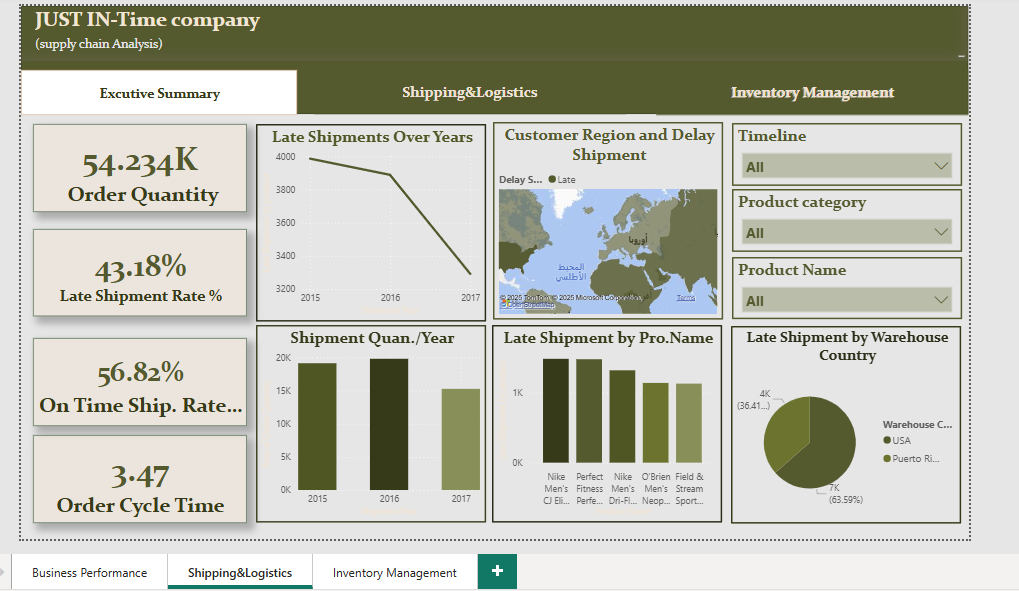

What the dashboard file says about the page in this screenshot:
{"tool":"powerbi","page":{"name":"Shipping&Logistics","canvas":[1280,720],"ordinal":1},"visuals":[{"type":"shape","box":[0,0,1280,146.2],"z":0},{"type":"textbox","title":"JUST IN-Time company","box":[0,0,1280,73.8],"z":1000},{"type":"card","title":"Net Profit","fields":{"Values":["Sum(order.Order Quantity)"]},"box":[16.8,159.6,288.9,119.3],"z":2000},{"type":"card","title":"Net Profit","fields":{"Values":["order.On Time Shipment Rate %"]},"box":[16.8,448.5,288.9,119.3],"z":3000},{"type":"card","title":"Net Profit","fields":{"Values":["order.Late Shipment Rate %"]},"box":[16.8,300.7,288.9,117.6],"z":4000},{"type":"actionButton","title":"Executive Summary","box":[0,86.4,372.7,60.6],"z":7000},{"type":"actionButton","title":"Shipping&Logistics","box":[395.4,84.6,421.5,61.5],"z":8000},{"type":"actionButton","title":"Shipping&Logistics","box":[858.5,86.2,421.5,61.5],"z":9000},{"type":"filledMap","fields":{"Category":["order.Customer Region"],"Series":["order.Delay Shipment"]},"box":[637.9,157,311,267],"z":10000},{"type":"actionButton","title":"Shipping&Logistics","box":[858.8,86.4,421.2,60.6],"z":12000},{"type":"lineChart","title":"Late Shipments Over Years","fields":{"Category":["order.Shipment Year"],"Y":["order.Late Shipment by product"]},"box":[317.5,159.6,310.8,267],"z":13000},{"type":"slicer","title":"Timeline","fields":{"Values":["Date.Month","Date.Year"]},"box":[960.5,158.4,311,85],"z":14000},{"type":"slicer","title":"Product category","fields":{"Values":["product.Product Category"]},"box":[960.5,247.7,311,85],"z":15000},{"type":"slicer","title":"Product Name","fields":{"Values":["product.Product Name"]},"box":[960.5,339.8,311,83.5],"z":16000},{"type":"card","title":"Net Profit","fields":{"Values":["Avg(order.Shipping Time)"]},"box":[16.8,579.5,288.9,119.3],"z":17000},{"type":"columnChart","title":"Shipment Quan./Year","fields":{"Category":["order.Shipment Year"],"Y":["Sum(order.Order Quantity)"]},"box":[317.5,431.7,310.8,267.1],"z":17001},{"type":"lineStackedColumnComboChart","title":"Late Shipment by Pro.Name","fields":{"Y":["order.Late Shipment by product"],"Category":["order.Product Name"]},"box":[636.6,431.7,310.8,267.1],"z":17002},{"type":"pieChart","fields":{"Y":["order.Late Shipment by product"],"Category":["order.Warehouse Country"]},"box":[960,432,311,267],"z":17003}]}

Visuals, with their boxes on the page's 1280x720 design canvas (x1, y1, x2, y2). These are canvas units, not pixel positions in the 1019x591 screenshot, which may show the page scaled, cropped or inside an application window:
shape: (x1=0, y1=0, x2=1280, y2=146)
"JUST IN-Time company" textbox: (x1=0, y1=0, x2=1280, y2=74)
"Net Profit" card: (x1=17, y1=160, x2=306, y2=279)
"Net Profit" card: (x1=17, y1=448, x2=306, y2=568)
"Net Profit" card: (x1=17, y1=301, x2=306, y2=418)
"Executive Summary" actionButton: (x1=0, y1=86, x2=373, y2=147)
"Shipping&Logistics" actionButton: (x1=395, y1=85, x2=817, y2=146)
"Shipping&Logistics" actionButton: (x1=858, y1=86, x2=1280, y2=148)
filledMap - order.Customer Region x order.Delay Shipment: (x1=638, y1=157, x2=949, y2=424)
"Shipping&Logistics" actionButton: (x1=859, y1=86, x2=1280, y2=147)
"Late Shipments Over Years" lineChart: (x1=318, y1=160, x2=628, y2=427)
"Timeline" slicer: (x1=960, y1=158, x2=1272, y2=243)
"Product category" slicer: (x1=960, y1=248, x2=1272, y2=333)
"Product Name" slicer: (x1=960, y1=340, x2=1272, y2=423)
"Net Profit" card: (x1=17, y1=580, x2=306, y2=699)
"Shipment Quan./Year" columnChart: (x1=318, y1=432, x2=628, y2=699)
"Late Shipment by Pro.Name" lineStackedColumnComboChart: (x1=637, y1=432, x2=947, y2=699)
pieChart - order.Late Shipment by product x order.Warehouse Country: (x1=960, y1=432, x2=1271, y2=699)
